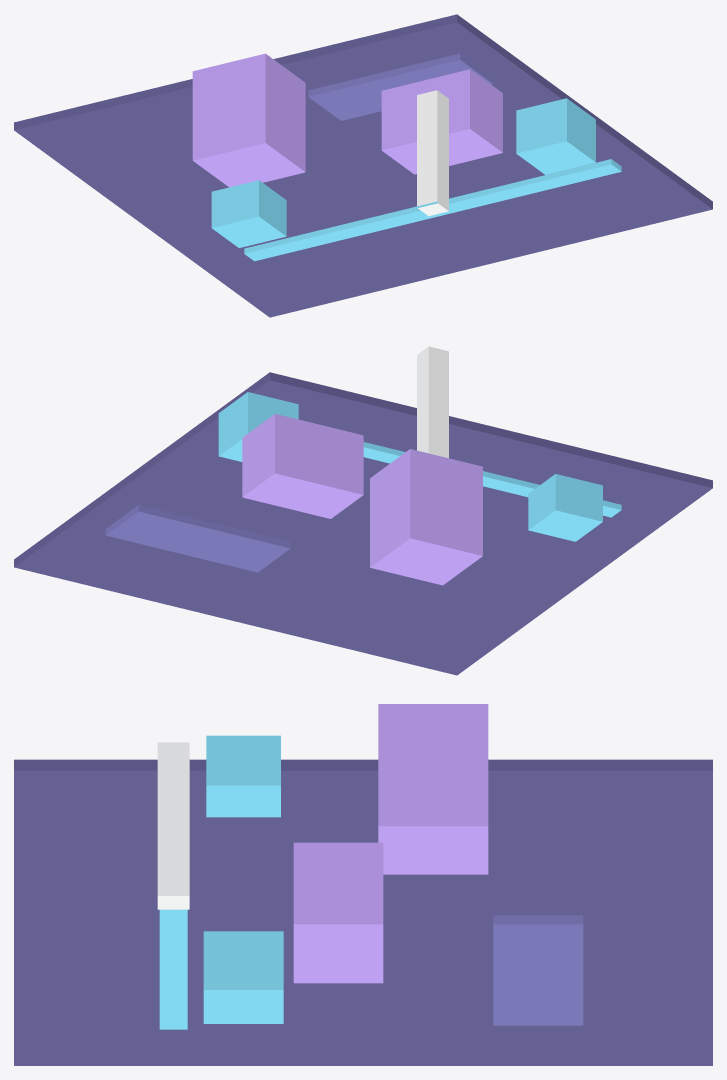
File: planetary-hub.glb
3 views of the same model, one above another, from view 1: azimuth 30°, elevation 25°; view 2: azimuth 150°, elevation 25°; view 3: azimuth 270°, elevation 25° (orthographic). The views are drawn at different scales.
Visible parts, largest first — view 1: environment floor, main structure, secondary structure, route layer, context block b, environment plane, context block a, observation marker; view 2: environment floor, main structure, secondary structure, environment plane, context block a, observation marker, context block b, route layer; view 3: environment floor, main structure, secondary structure, environment plane, context block b, context block a, observation marker, route layer.
Boxes of the visible parts, x1,y1,x2,y2 form: environment floor: (14,14,712,317); main structure: (192,53,305,187); secondary structure: (381,69,502,174); route layer: (244,159,621,261); context block b: (516,98,595,174); environment plane: (308,53,493,120); context block a: (211,180,286,247); observation marker: (417,90,448,216); environment floor: (14,372,712,675); main structure: (370,449,482,585); secondary structure: (242,414,363,518); environment plane: (105,505,290,572); context block a: (528,474,602,541); observation marker: (417,346,448,458); context block b: (218,392,298,461); route layer: (363,442,621,517); environment floor: (14,759,712,1065); main structure: (378,704,488,874); secondary structure: (293,842,383,983); environment plane: (493,915,583,1025); context block b: (203,931,283,1023); context block a: (206,735,280,817); observation marker: (157,742,189,909); route layer: (159,909,187,1029).
Bounding box in the file's own units: 7 × 1.87 × 7.
